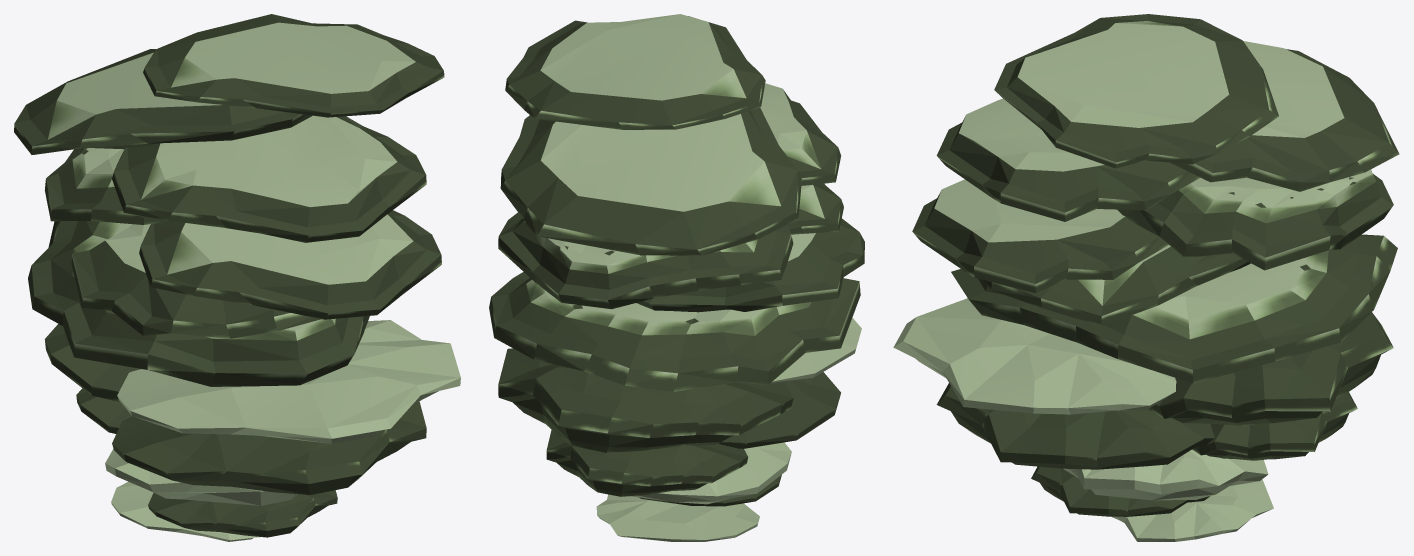
The model's file is EA_Swamp_Fungus_02a.glb.
3 renders of one model, left to right at view 1: azimuth 30°, elevation 25°; view 2: azimuth 150°, elevation 25°; view 3: azimuth 270°, elevation 25°, orthographic. The views are drawn at different scales.
Parts seen in each view (by area): view 1: EA_Swamp_Fungus_02a; view 2: EA_Swamp_Fungus_02a; view 3: EA_Swamp_Fungus_02a.
Part boxes in pixels (x1=…): EA_Swamp_Fungus_02a: x1=14, y1=14, x2=460, y2=541; EA_Swamp_Fungus_02a: x1=489, y1=14, x2=864, y2=541; EA_Swamp_Fungus_02a: x1=893, y1=14, x2=1399, y2=541.
Size of the model in its own units: 1.06 by 1.36 by 1.31.
Materials: 1 (1 with a texture image).
